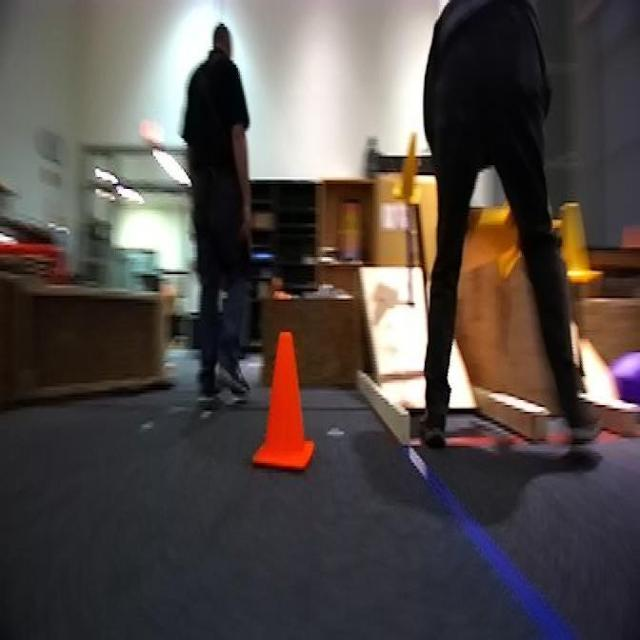frc_cone: (457, 185, 521, 278), (555, 199, 600, 283), (393, 140, 424, 202)
frc_cube: (614, 352, 640, 408)
